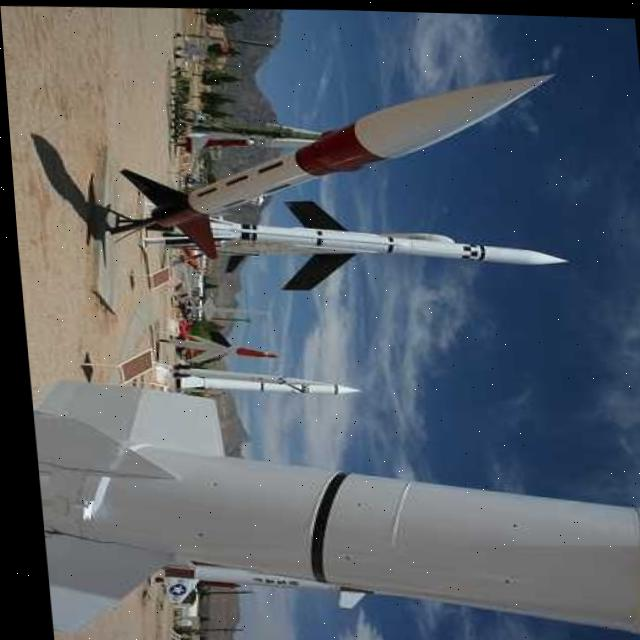missile: (130, 56, 566, 265), (194, 190, 572, 299), (144, 321, 277, 370), (172, 368, 353, 401)
